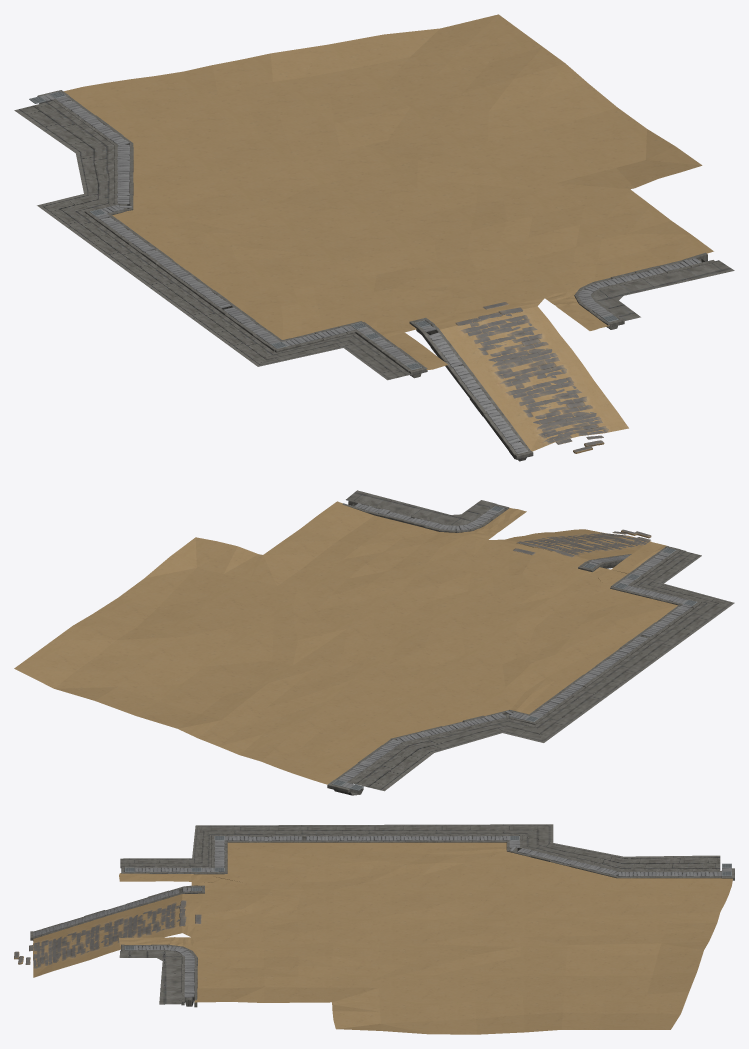
Rendered from konohavill_ground_06.fbx.
The picture shows the model from 3 angles, top to bottom: view 1: azimuth 30°, elevation 25°; view 2: azimuth 150°, elevation 25°; view 3: azimuth 270°, elevation 25°; orthographic projection. The views are drawn at different scales.
Parts seen in each view (by area): view 1: SM_ENV_KNVLLG_ground_06.mo; view 2: SM_ENV_KNVLLG_ground_06.mo; view 3: SM_ENV_KNVLLG_ground_06.mo.
Part boxes in pixels (box(x1,y1,x2,y2)): SM_ENV_KNVLLG_ground_06.mo: box(14, 14, 734, 461); SM_ENV_KNVLLG_ground_06.mo: box(14, 490, 734, 795); SM_ENV_KNVLLG_ground_06.mo: box(14, 824, 734, 1034).
Bounding box in the file's own units: 5033 × 636 × 7232.
